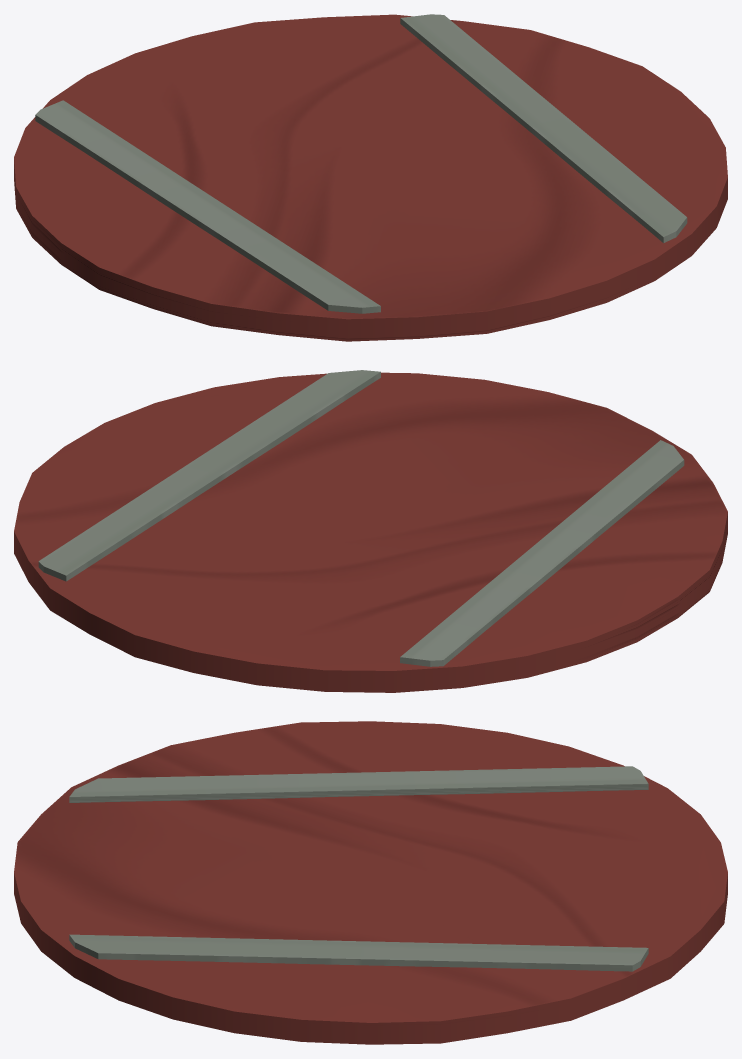
The model's file is masaüst.fbx.
3 views of the same model, one above another, from view 1: azimuth 30°, elevation 25°; view 2: azimuth 150°, elevation 25°; view 3: azimuth 270°, elevation 25° (orthographic).
Parts seen in each view (by area): view 1: masaust; view 2: masaust; view 3: masaust.
Boxes of the visible parts, left/top/right/bottom form: masaust: left=14, top=14, right=727, bottom=341; masaust: left=14, top=370, right=727, bottom=692; masaust: left=14, top=721, right=727, bottom=1044.
Size of the model in its own units: 2095 by 92.39 by 2095.
